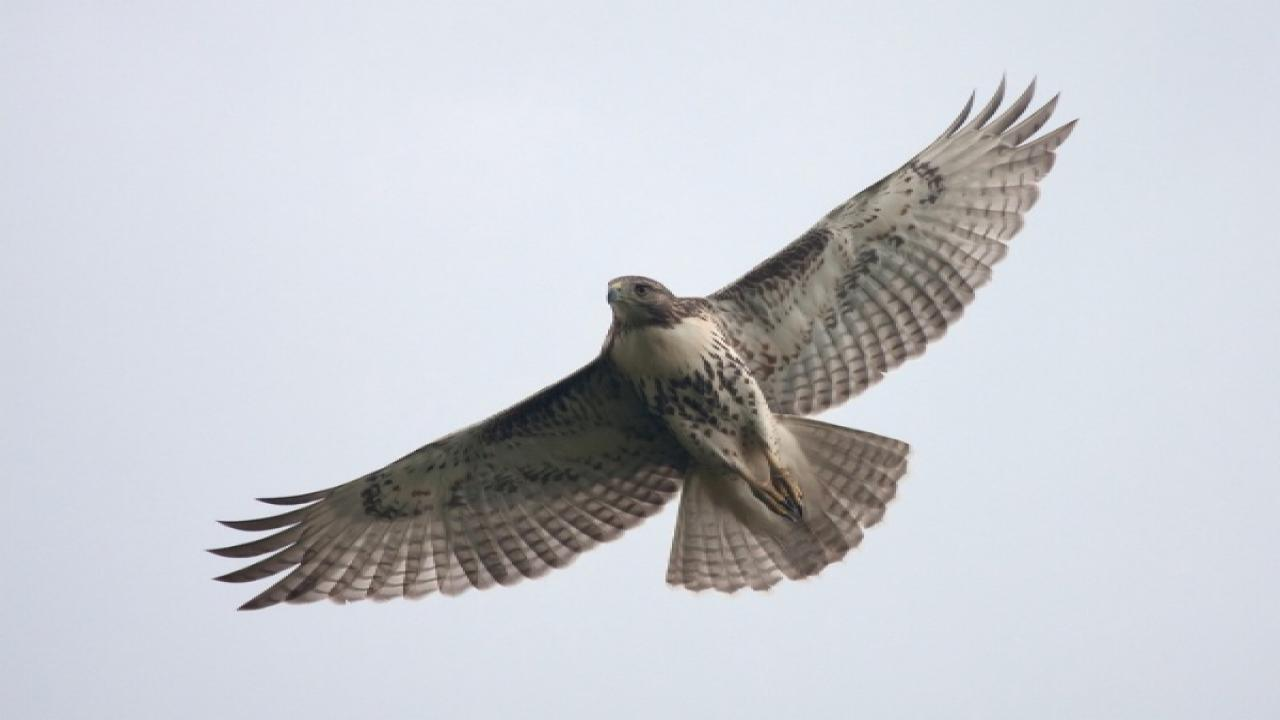Bird: (193, 65, 1092, 616)
